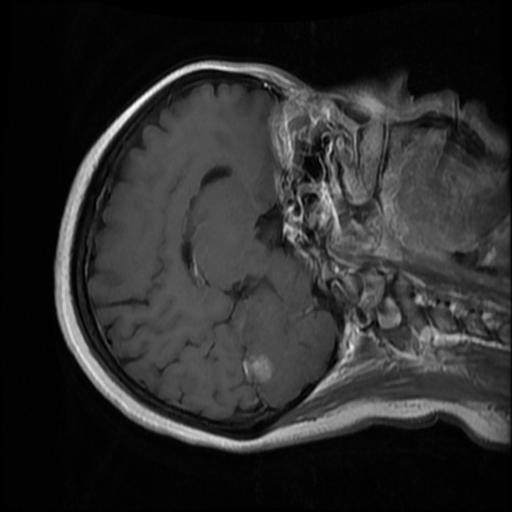meningioma: (241, 355, 271, 383)
